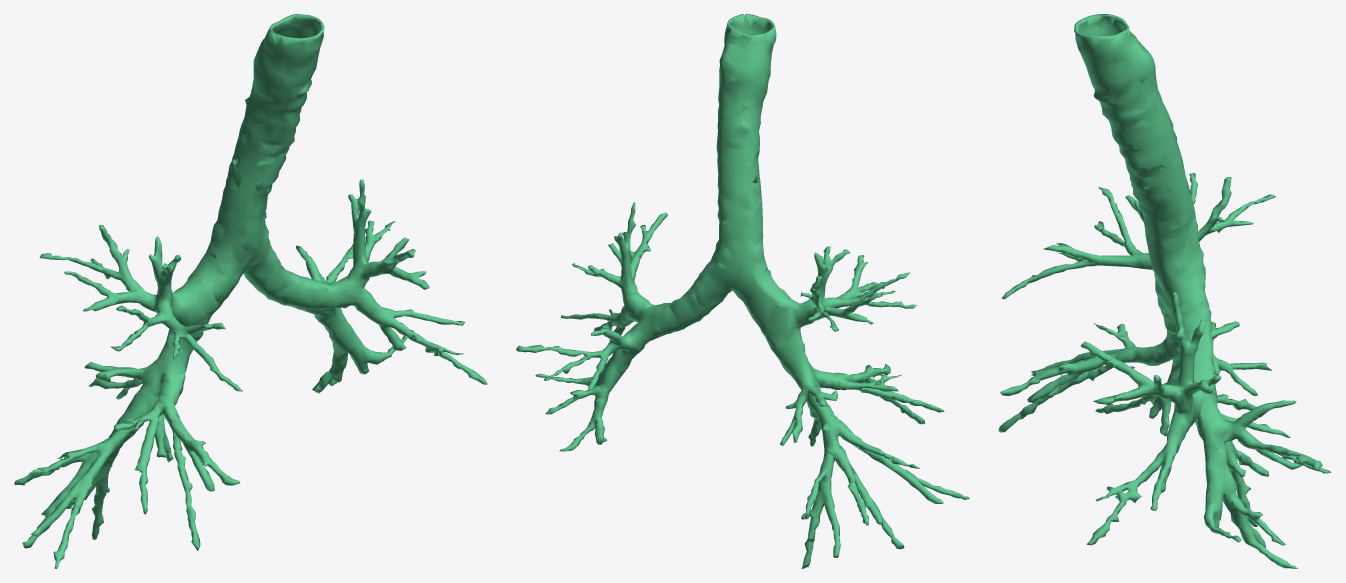
The picture shows the model from 3 angles, left to right: view 1: azimuth 30°, elevation 25°; view 2: azimuth 150°, elevation 25°; view 3: azimuth 270°, elevation 25°; orthographic projection. The views are drawn at different scales.
Parts seen in each view (by area): view 1: Polygonal_Model_4_Triangles_0; view 2: Polygonal_Model_4_Triangles_0; view 3: Polygonal_Model_4_Triangles_0.
Part boxes in pixels (<box>): Polygonal_Model_4_Triangles_0: <box>14,14,487,568</box>; Polygonal_Model_4_Triangles_0: <box>516,14,969,568</box>; Polygonal_Model_4_Triangles_0: <box>998,14,1331,568</box>.
Size of the model in its own units: 7.58 by 8.85 by 4.69.
